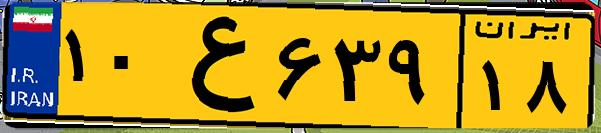0: (110, 28, 158, 98)
1: (57, 26, 110, 100), (475, 38, 525, 113)
3: (330, 28, 385, 110)
6: (270, 28, 330, 110)
8: (525, 38, 570, 115)
9: (385, 28, 445, 110)
ع: (158, 12, 270, 120)
